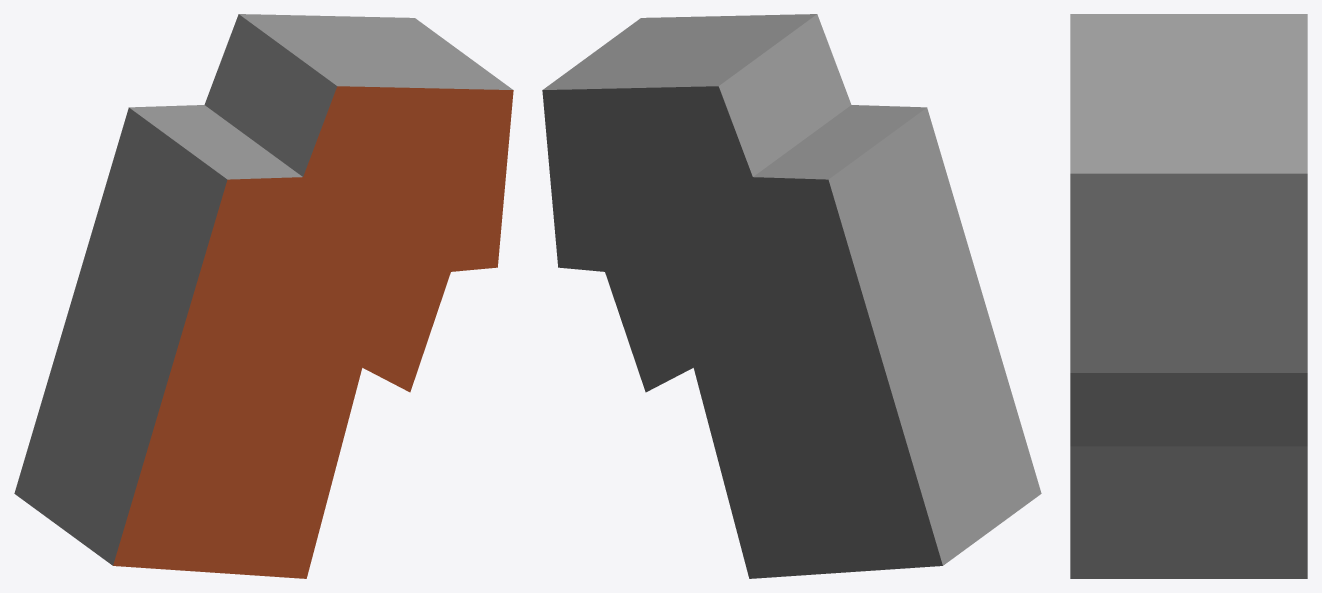
The model's file is construction_3404_assumed_A_Casa_h6m.obj.
3 renders of one model, left to right at view 1: azimuth 30°, elevation 25°; view 2: azimuth 150°, elevation 25°; view 3: azimuth 270°, elevation 25°, orthographic. The views are drawn at different scales.
Parts seen in each view (by area): view 1: construction_3404_assumed_A_Casa; view 2: construction_3404_assumed_A_Casa; view 3: construction_3404_assumed_A_Casa.
Boxes of the visible parts, left/top/right/bottom form: construction_3404_assumed_A_Casa: left=14, top=14, right=513, bottom=578; construction_3404_assumed_A_Casa: left=542, top=14, right=1041, bottom=578; construction_3404_assumed_A_Casa: left=1070, top=14, right=1307, bottom=578.
Bounding box in the file's own units: 14.07 × 16.28 × 6.
